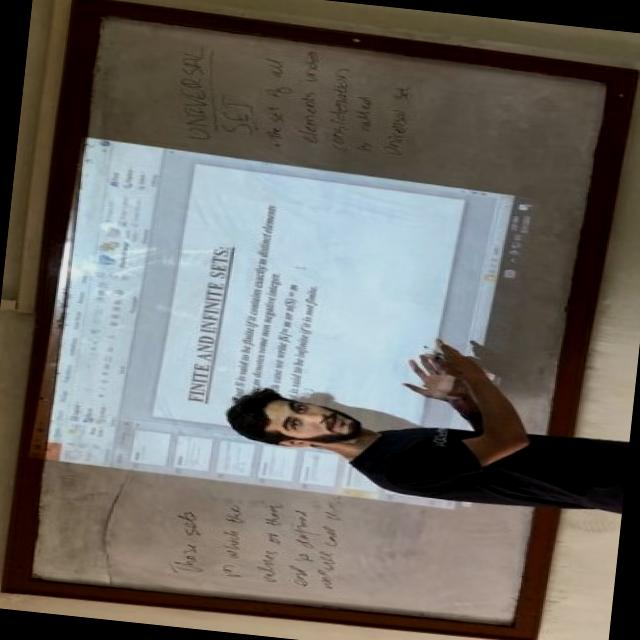Instructor: (205, 378, 628, 522)
Slide: (35, 134, 547, 516)
White-board: (12, 0, 624, 633)
